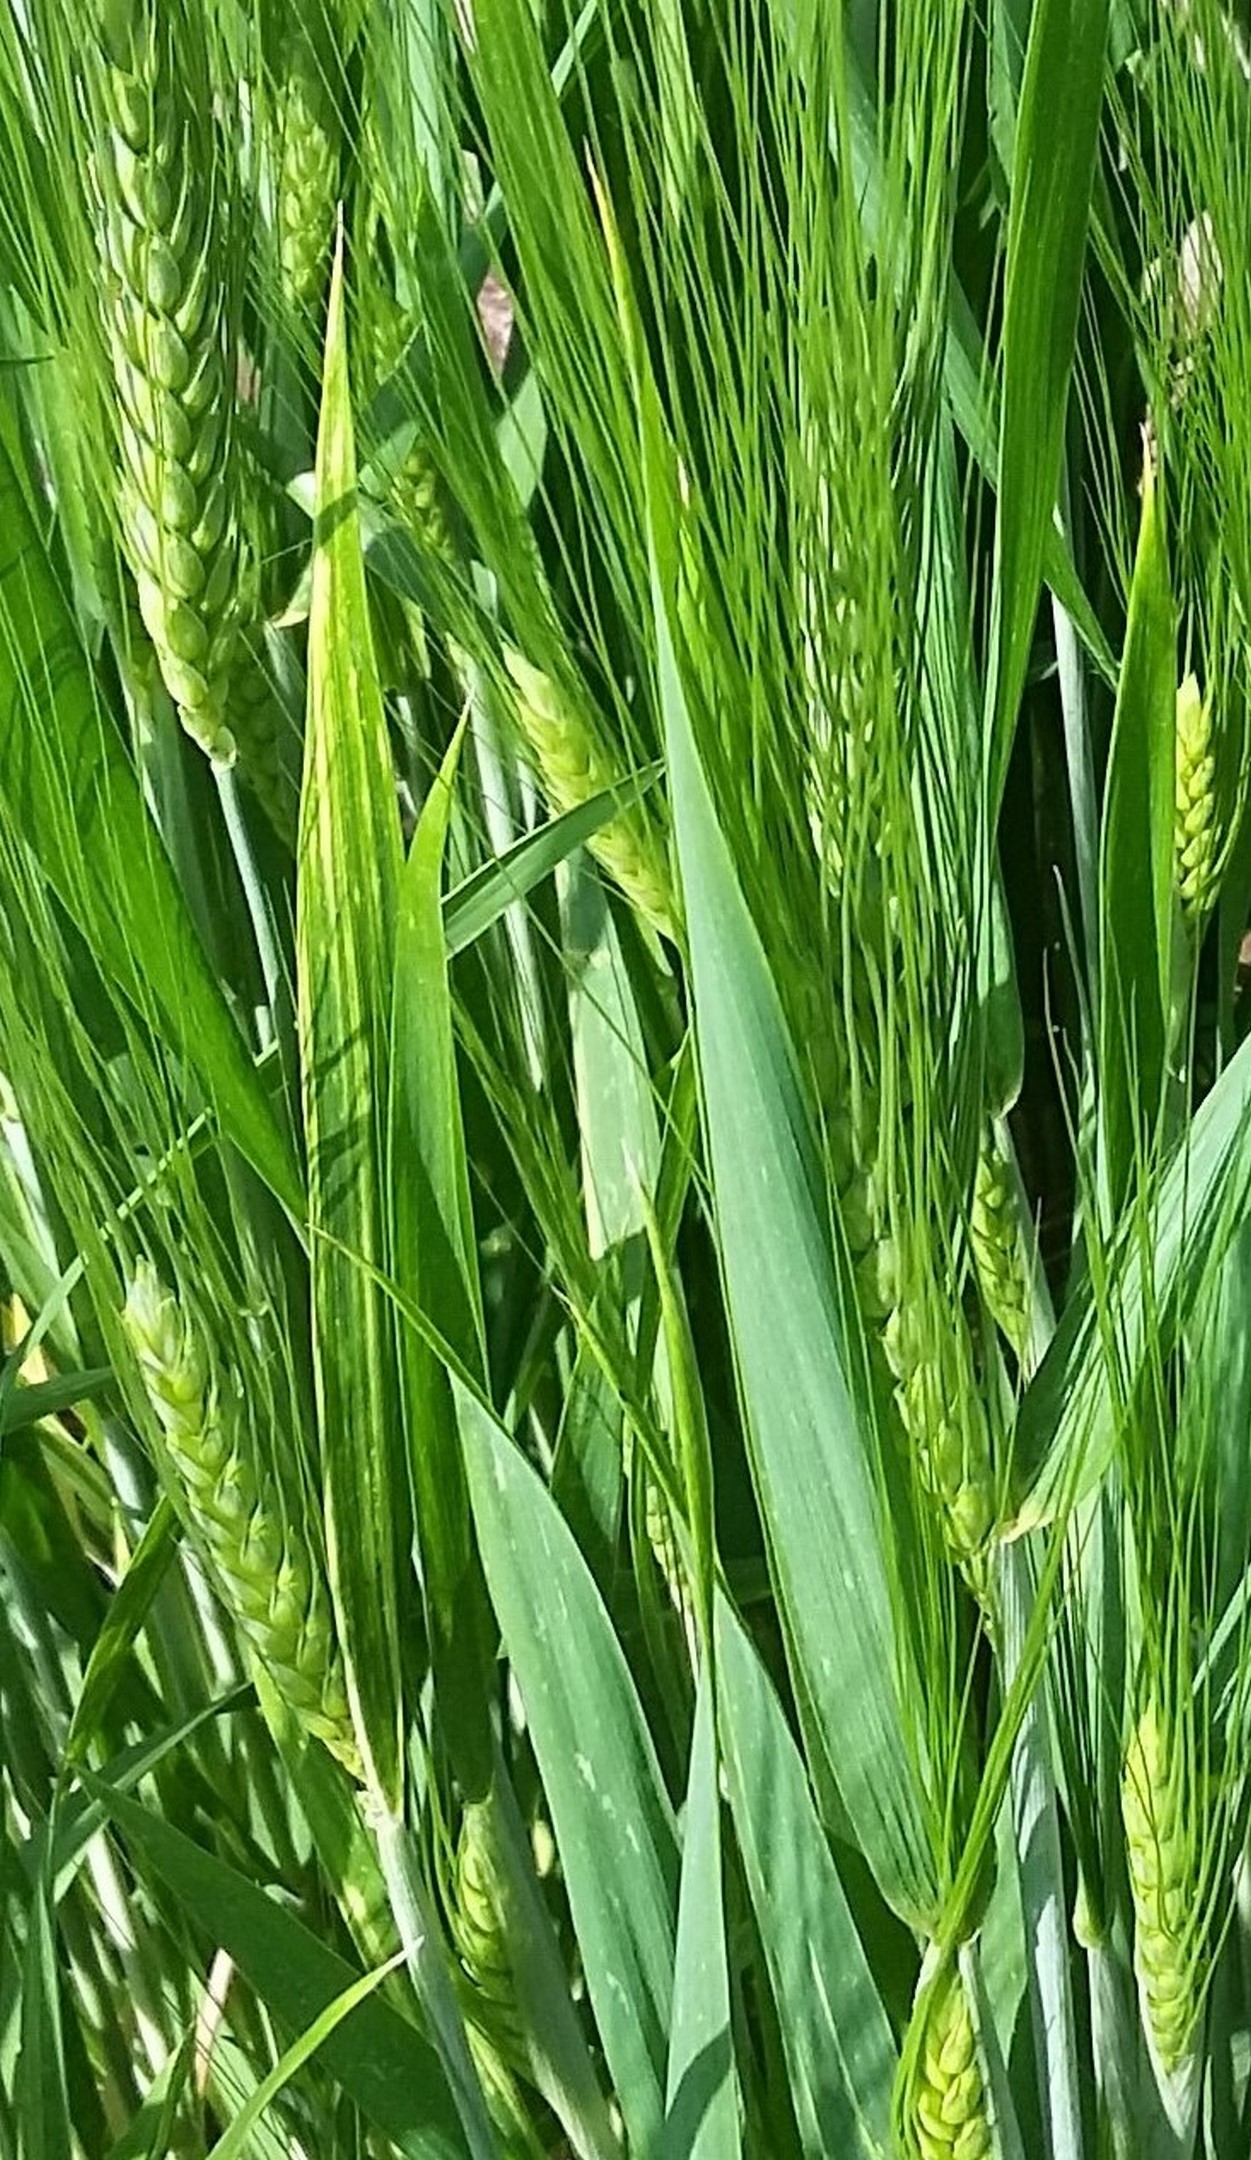Healthy Wheat: (103, 1239, 387, 1770), (80, 28, 277, 749)
